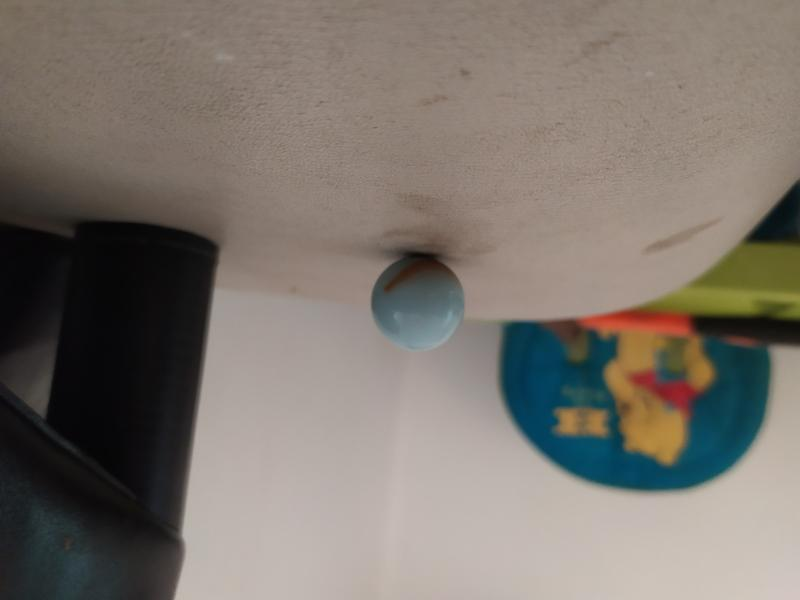Warning: (368, 253, 469, 355)
